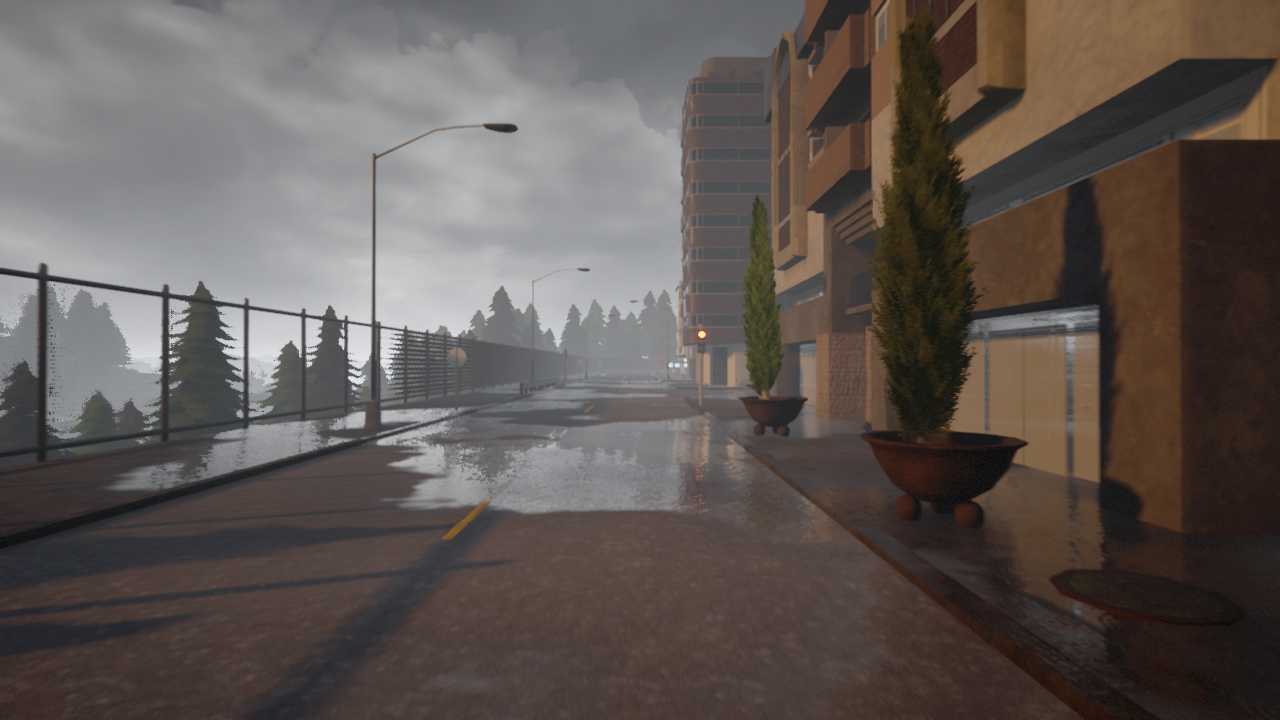red: (696, 328, 707, 355)
